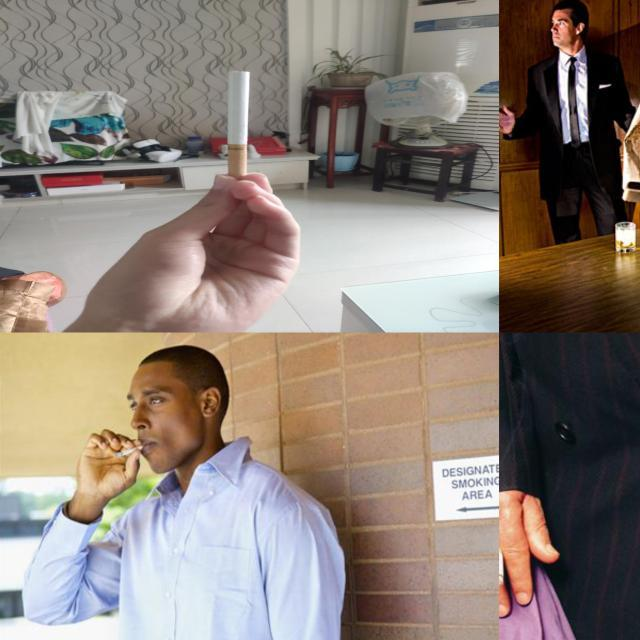smoking: (226, 70, 251, 178), (112, 442, 147, 459), (498, 544, 504, 588)
